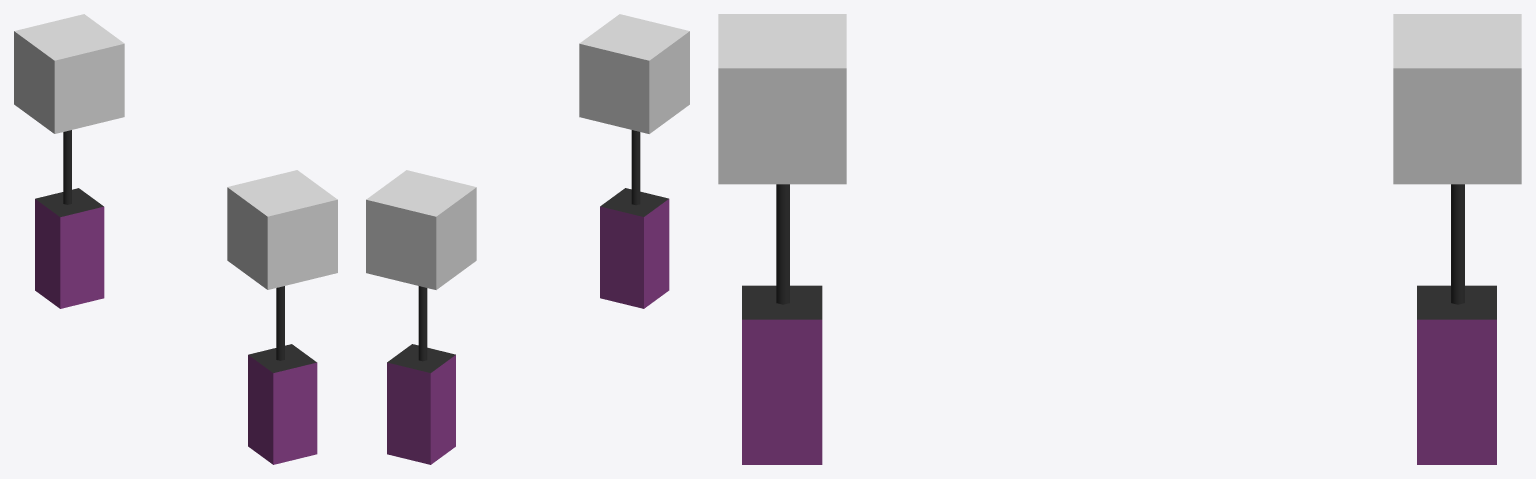
File: arbustes.FBX
3 renders of one model, left to right at view 1: azimuth 30°, elevation 25°; view 2: azimuth 150°, elevation 25°; view 3: azimuth 270°, elevation 25°, orthographic. The views are drawn at different scales.
Parts seen in each view (by area): view 1: feuillage arbuste unity003, feuillage arbuste unity006, tronc arbuste unity006, tronc arbuste unity003; view 2: feuillage arbuste unity003, feuillage arbuste unity006, tronc arbuste unity003, tronc arbuste unity006; view 3: feuillage arbuste unity003, feuillage arbuste unity006, tronc arbuste unity003, tronc arbuste unity006.
Boxes of the visible parts, x1,y1,x2,y2 form: feuillage arbuste unity003: (227,170,337,289); feuillage arbuste unity006: (14,14,124,133); tronc arbuste unity006: (35,130,104,308); tronc arbuste unity003: (248,286,317,464); feuillage arbuste unity003: (579,14,689,133); feuillage arbuste unity006: (366,170,476,289); tronc arbuste unity003: (600,130,669,308); tronc arbuste unity006: (387,286,455,464); feuillage arbuste unity003: (718,14,846,184); feuillage arbuste unity006: (1393,14,1521,184); tronc arbuste unity003: (742,184,822,464); tronc arbuste unity006: (1417,184,1496,464).
Size of the model in its own units: 47.89 by 168 by 300.
